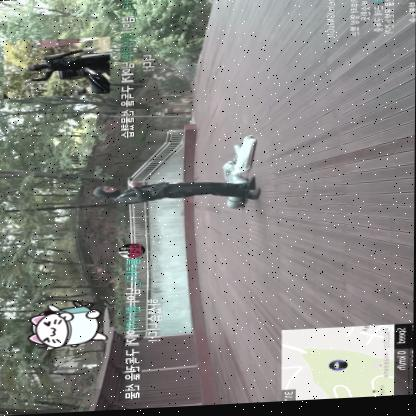donation: (2, 0, 156, 144), (30, 240, 165, 403)
streamer: (92, 171, 262, 210)
